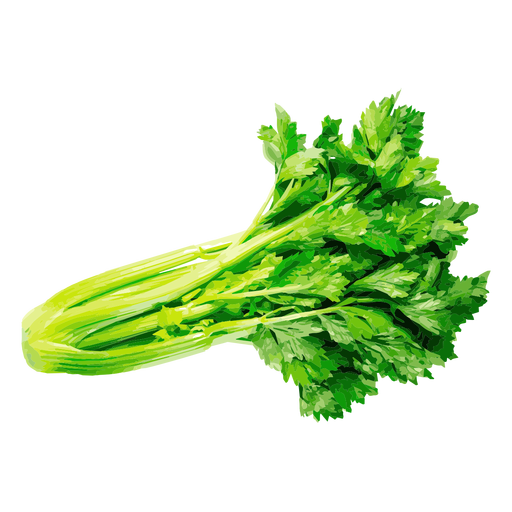Seledri: (18, 118, 492, 434)
